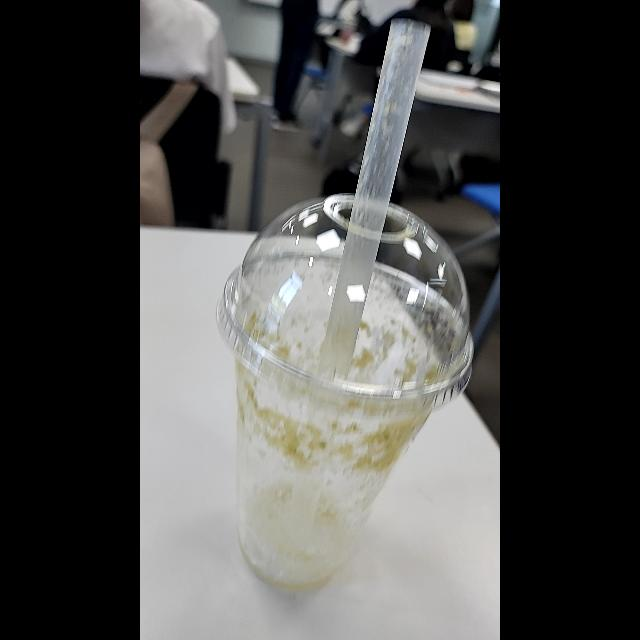plastic_cup: (218, 195, 474, 592), (221, 194, 475, 418)
straw: (306, 19, 424, 401)
